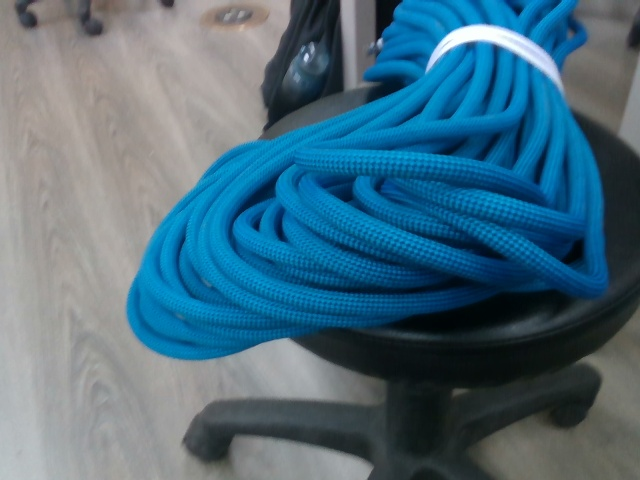rope: (121, 1, 615, 361)
